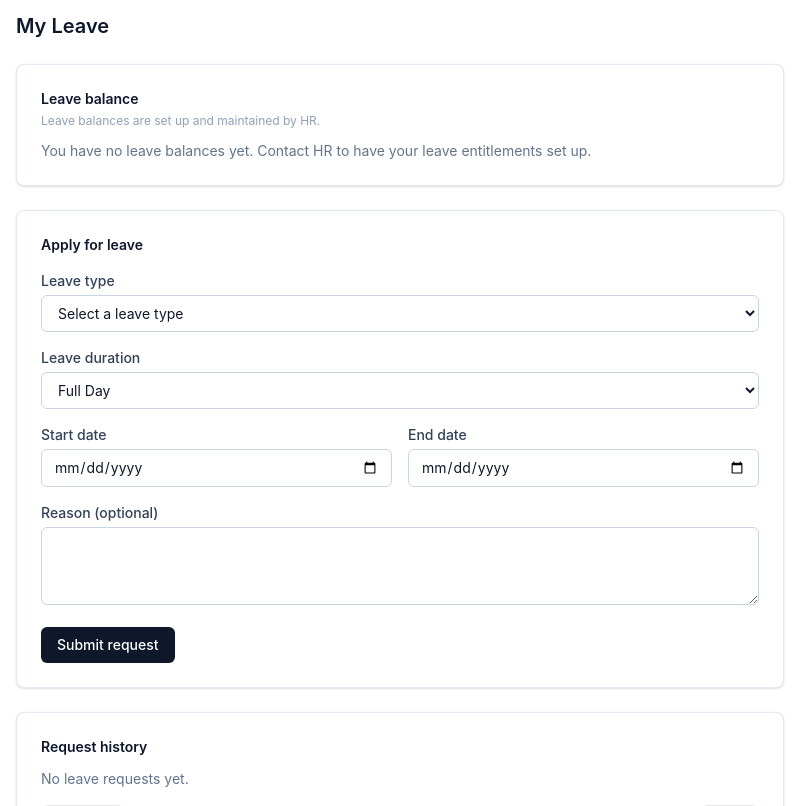
Test: LeaveDashboardPage › prevents submission when dates span different calendar years
Select "Annual Leave" in the dropdown labelled "Leave type": x=400, y=314 [41, 295, 759, 332]
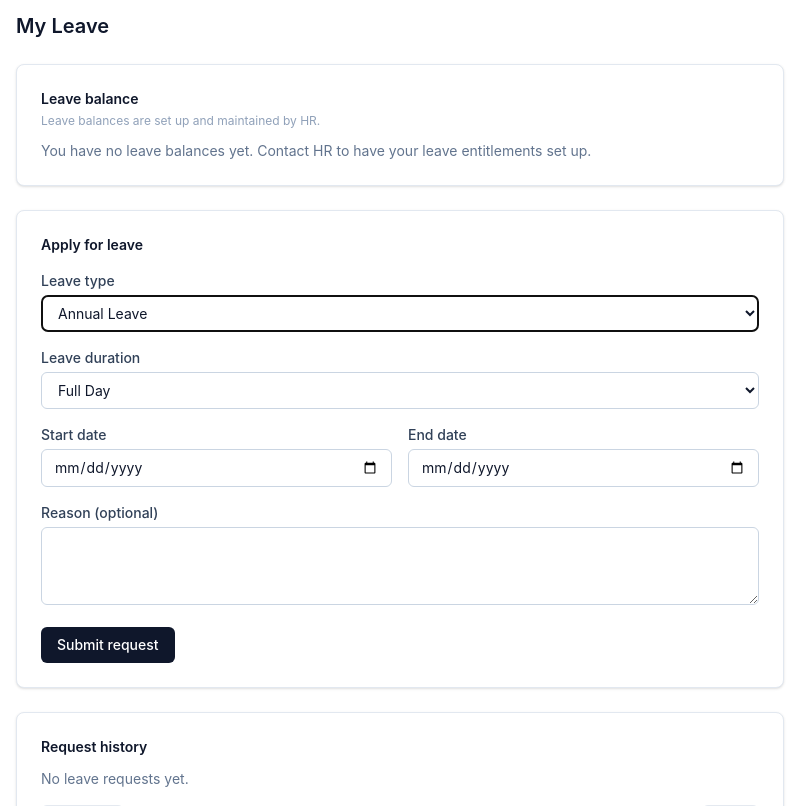
In the date field labelled "Start date": x=216, y=468 [41, 449, 392, 487], type "2026-12-30"
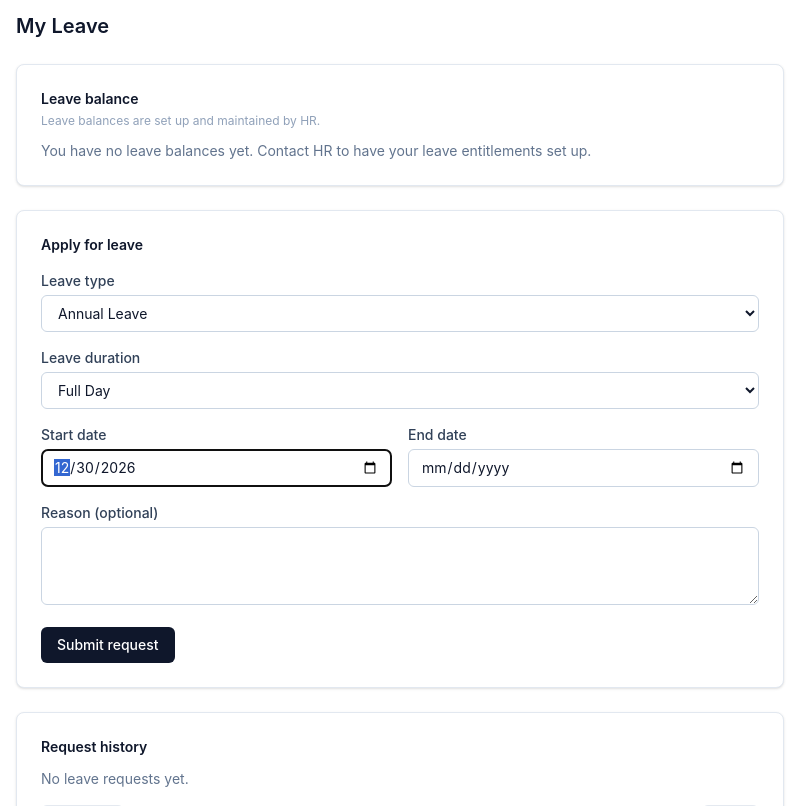
In the date field labelled "End date": x=584, y=468 [408, 449, 759, 487], type "2027-01-02"
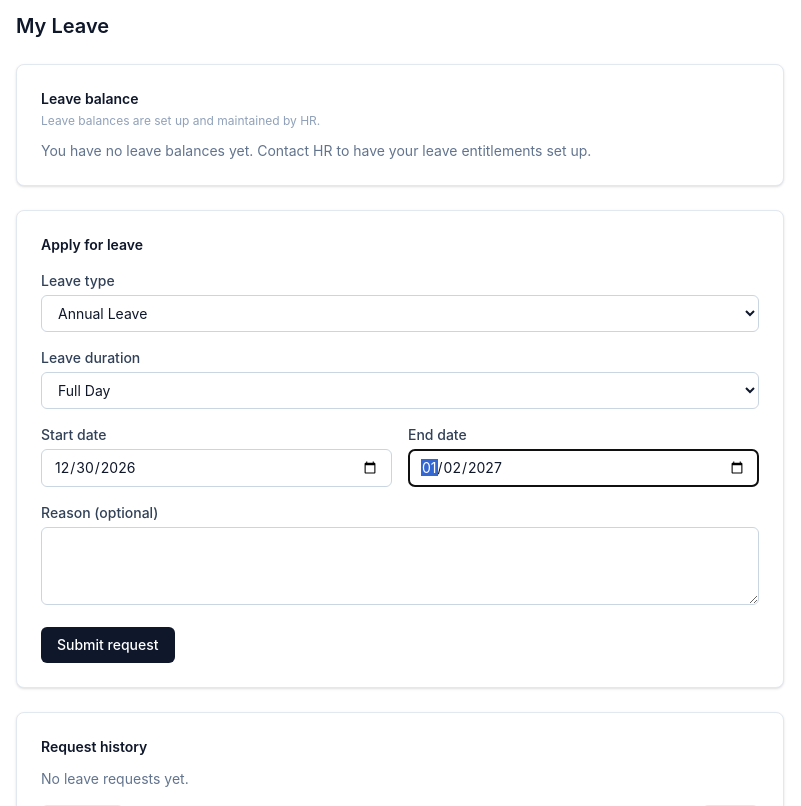
Click the button "Submit request": x=108, y=645 [41, 627, 175, 663]
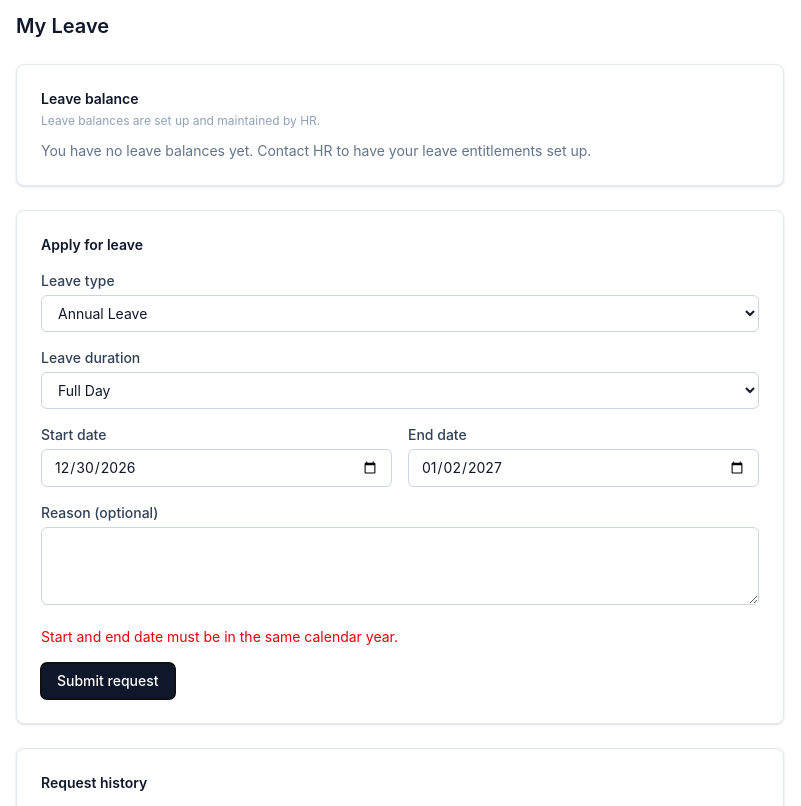
Now the message shows "calendar year", box [41, 628, 398, 645]
